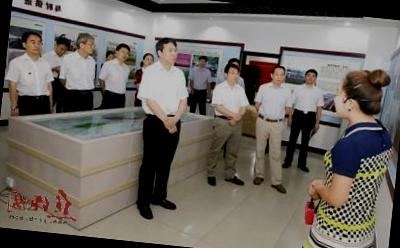no_helmet: (331, 65, 389, 126), (152, 35, 182, 68), (18, 29, 44, 56), (74, 32, 96, 58), (266, 63, 288, 89), (222, 58, 242, 84), (52, 33, 72, 57), (302, 66, 322, 88), (113, 41, 132, 64), (140, 50, 156, 70)
